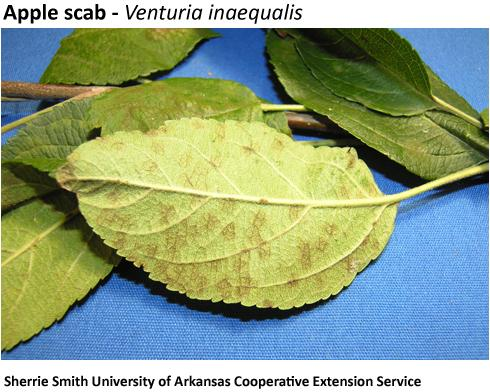Apple Scab Leaf: (60, 110, 409, 323)
